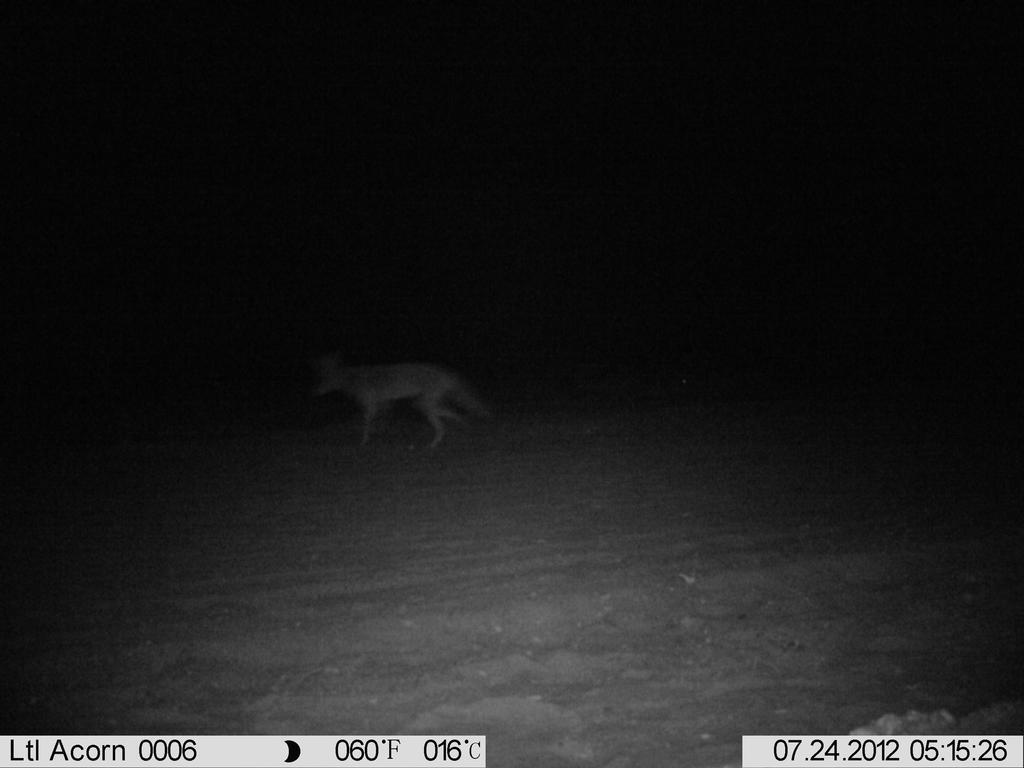coyote: (308, 349, 502, 459)
